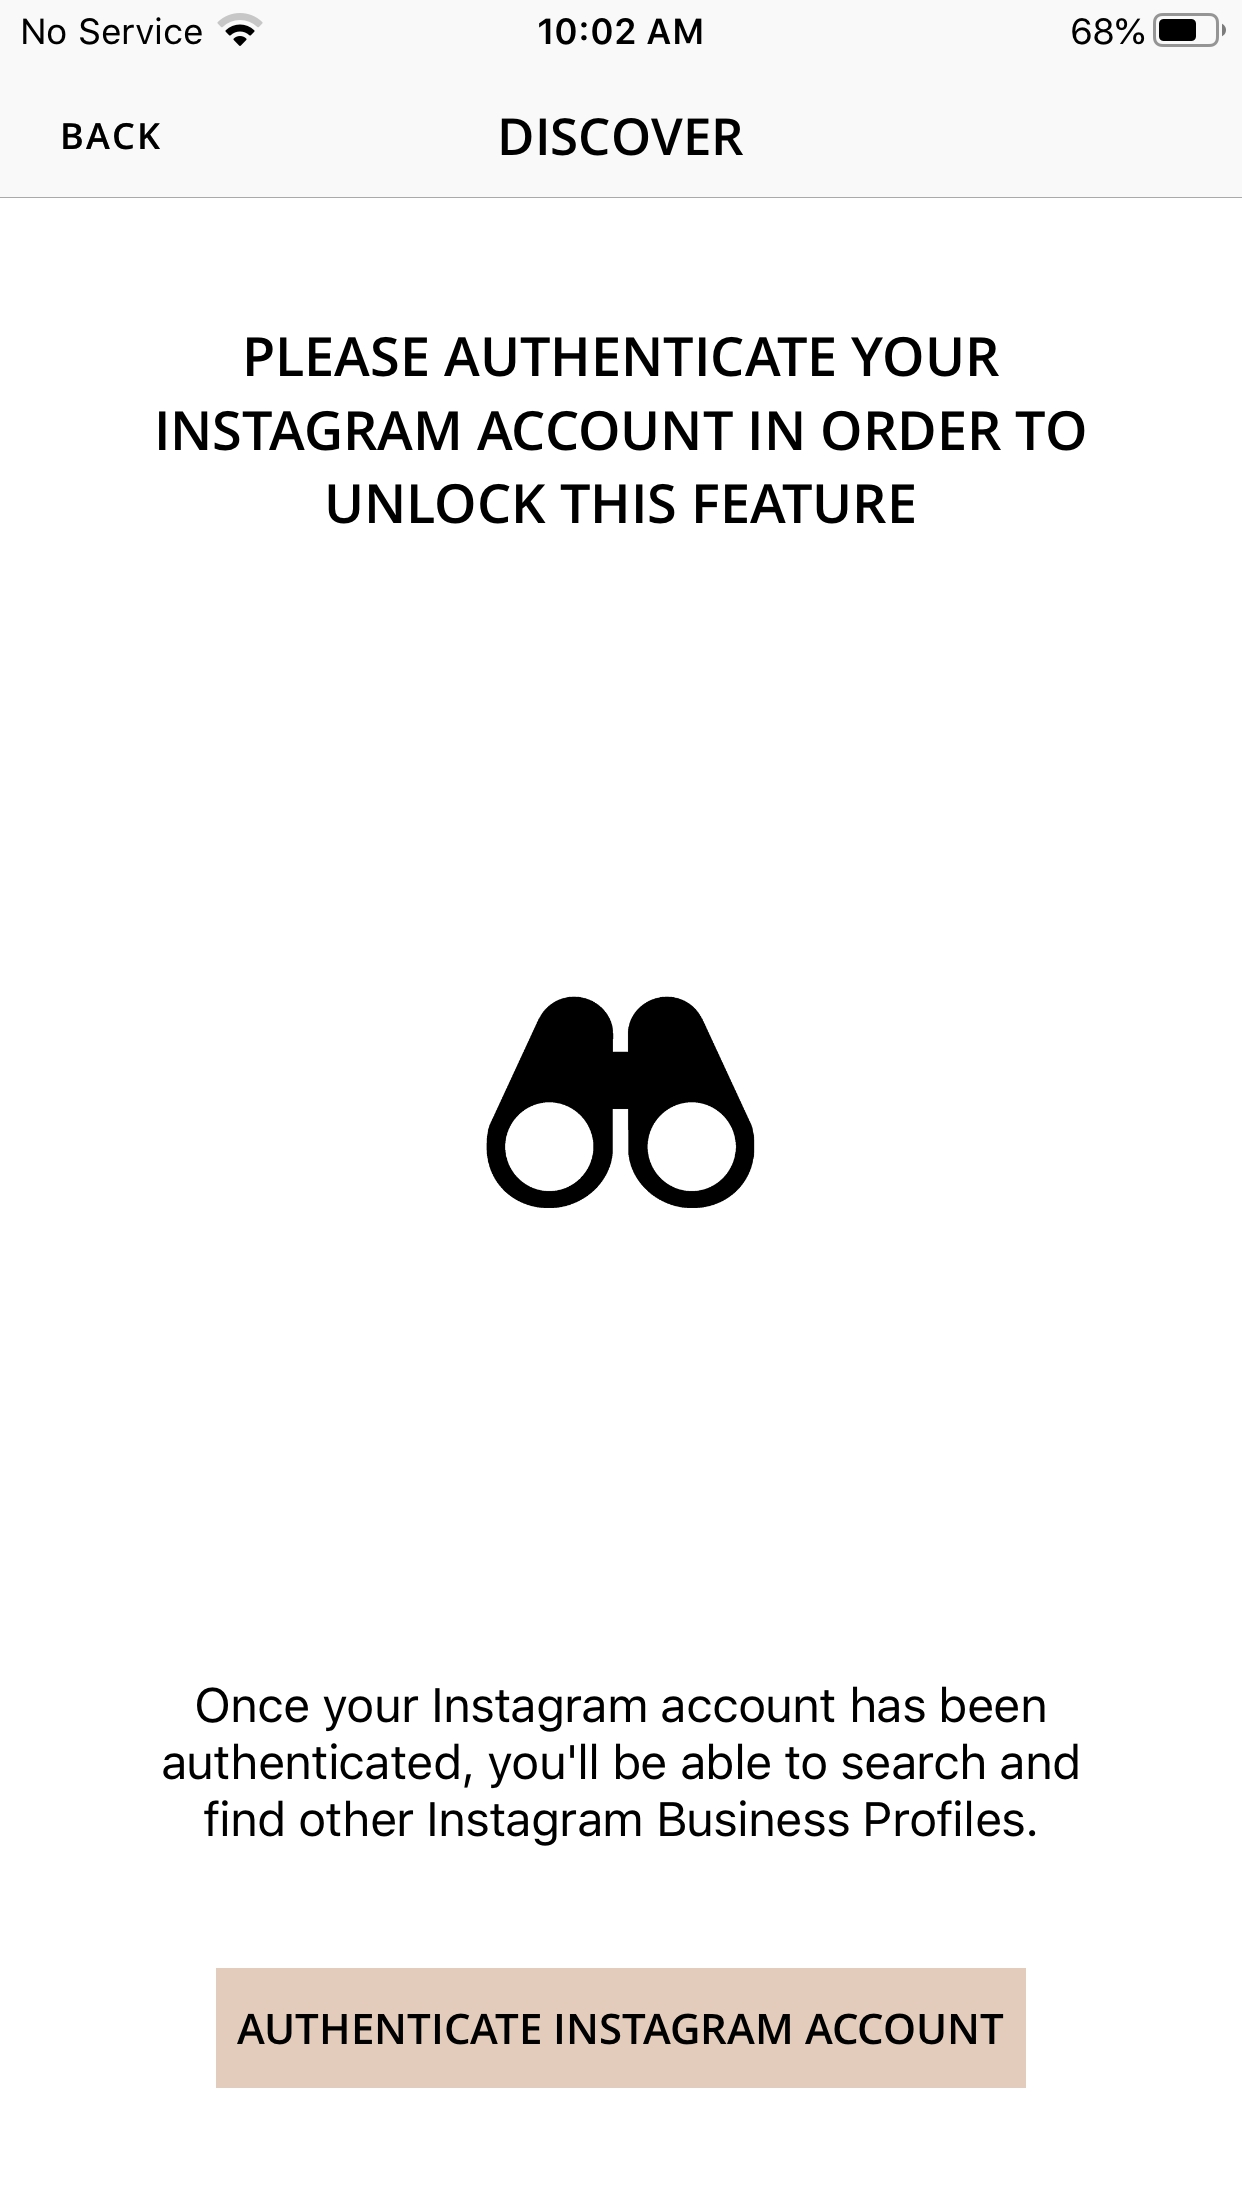Image: (485, 996, 755, 1209)
Text: (159, 337, 1084, 525), (162, 1686, 1078, 1846), (500, 118, 743, 156), (64, 123, 161, 149)
TextButton: (215, 1968, 1027, 2088)
UpperTaskBar: (2, 2, 1242, 49)
